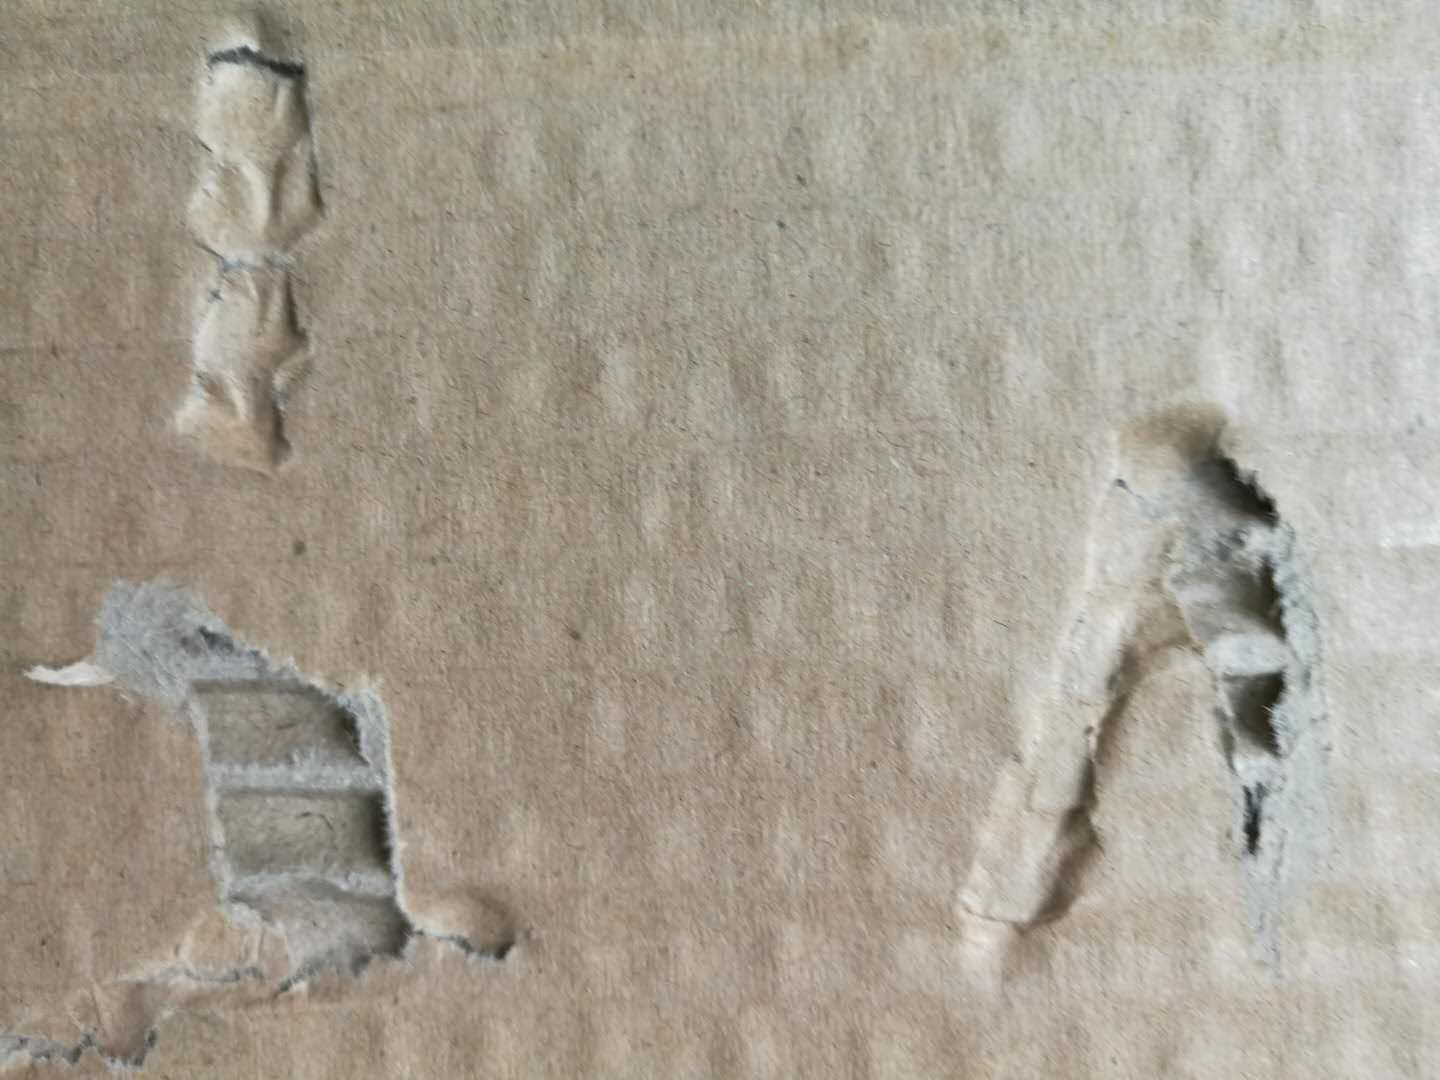defect: (1, 546, 598, 1080), (927, 362, 1367, 1026), (101, 18, 381, 489)
